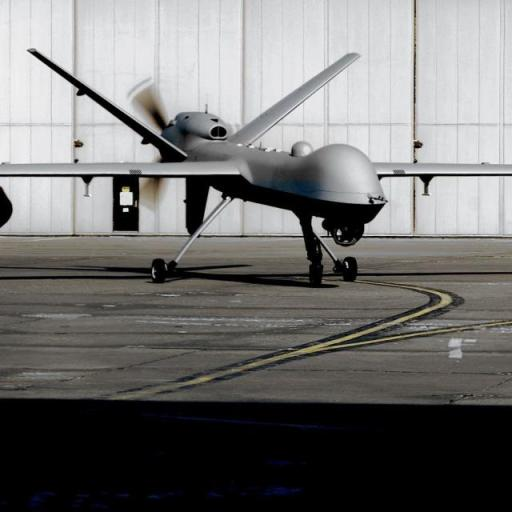uav: (5, 30, 512, 293)
